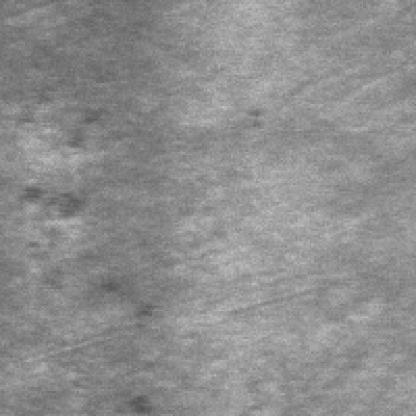rolled-in_scale: (22, 93, 108, 237)
